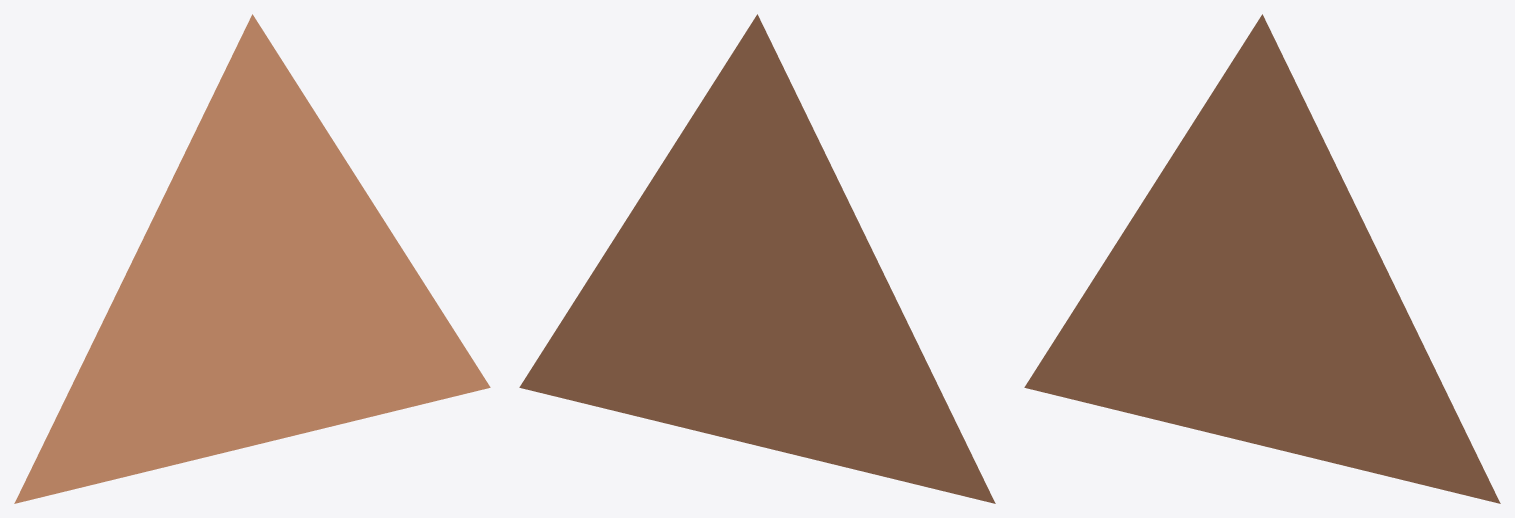
File: ember-scribe.gltf
The picture shows the model from 3 angles, left to right: view 1: azimuth 30°, elevation 25°; view 2: azimuth 150°, elevation 25°; view 3: azimuth 330°, elevation 25°; orthographic projection.
Parts seen in each view (by area): view 1: Ember Scribe; view 2: Ember Scribe; view 3: Ember Scribe.
Boxes of the visible parts, bbox=[...] form: Ember Scribe: bbox=[14, 14, 490, 503]; Ember Scribe: bbox=[519, 14, 995, 503]; Ember Scribe: bbox=[1024, 14, 1500, 503].
Bounding box in the file's own units: 2.25 × 1.95 × 0.
